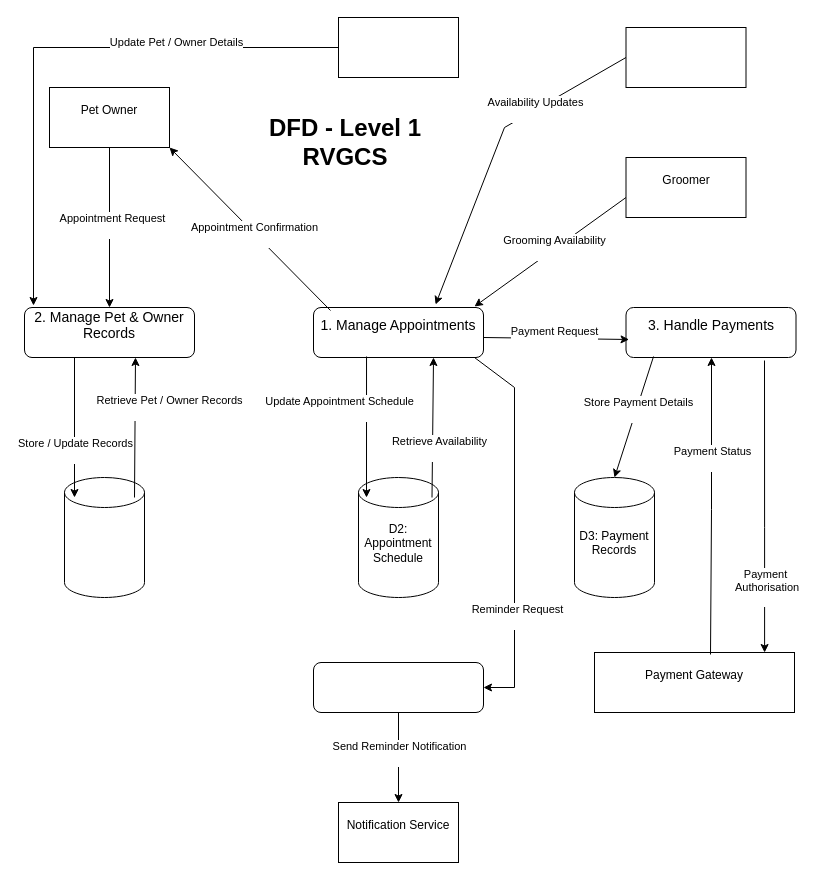
Some shapes in this 816 by 880 pixel diagram are drawn without their labels. Here are the shapes that lost their labels. From the top down, the box of each, then its label:
(338, 16, 458, 78): Administrator
(625, 26, 746, 88): Veterinarian
(64, 476, 144, 598): D1: Pet Records
(312, 662, 484, 712): 4. Send Reminders & Notifications
